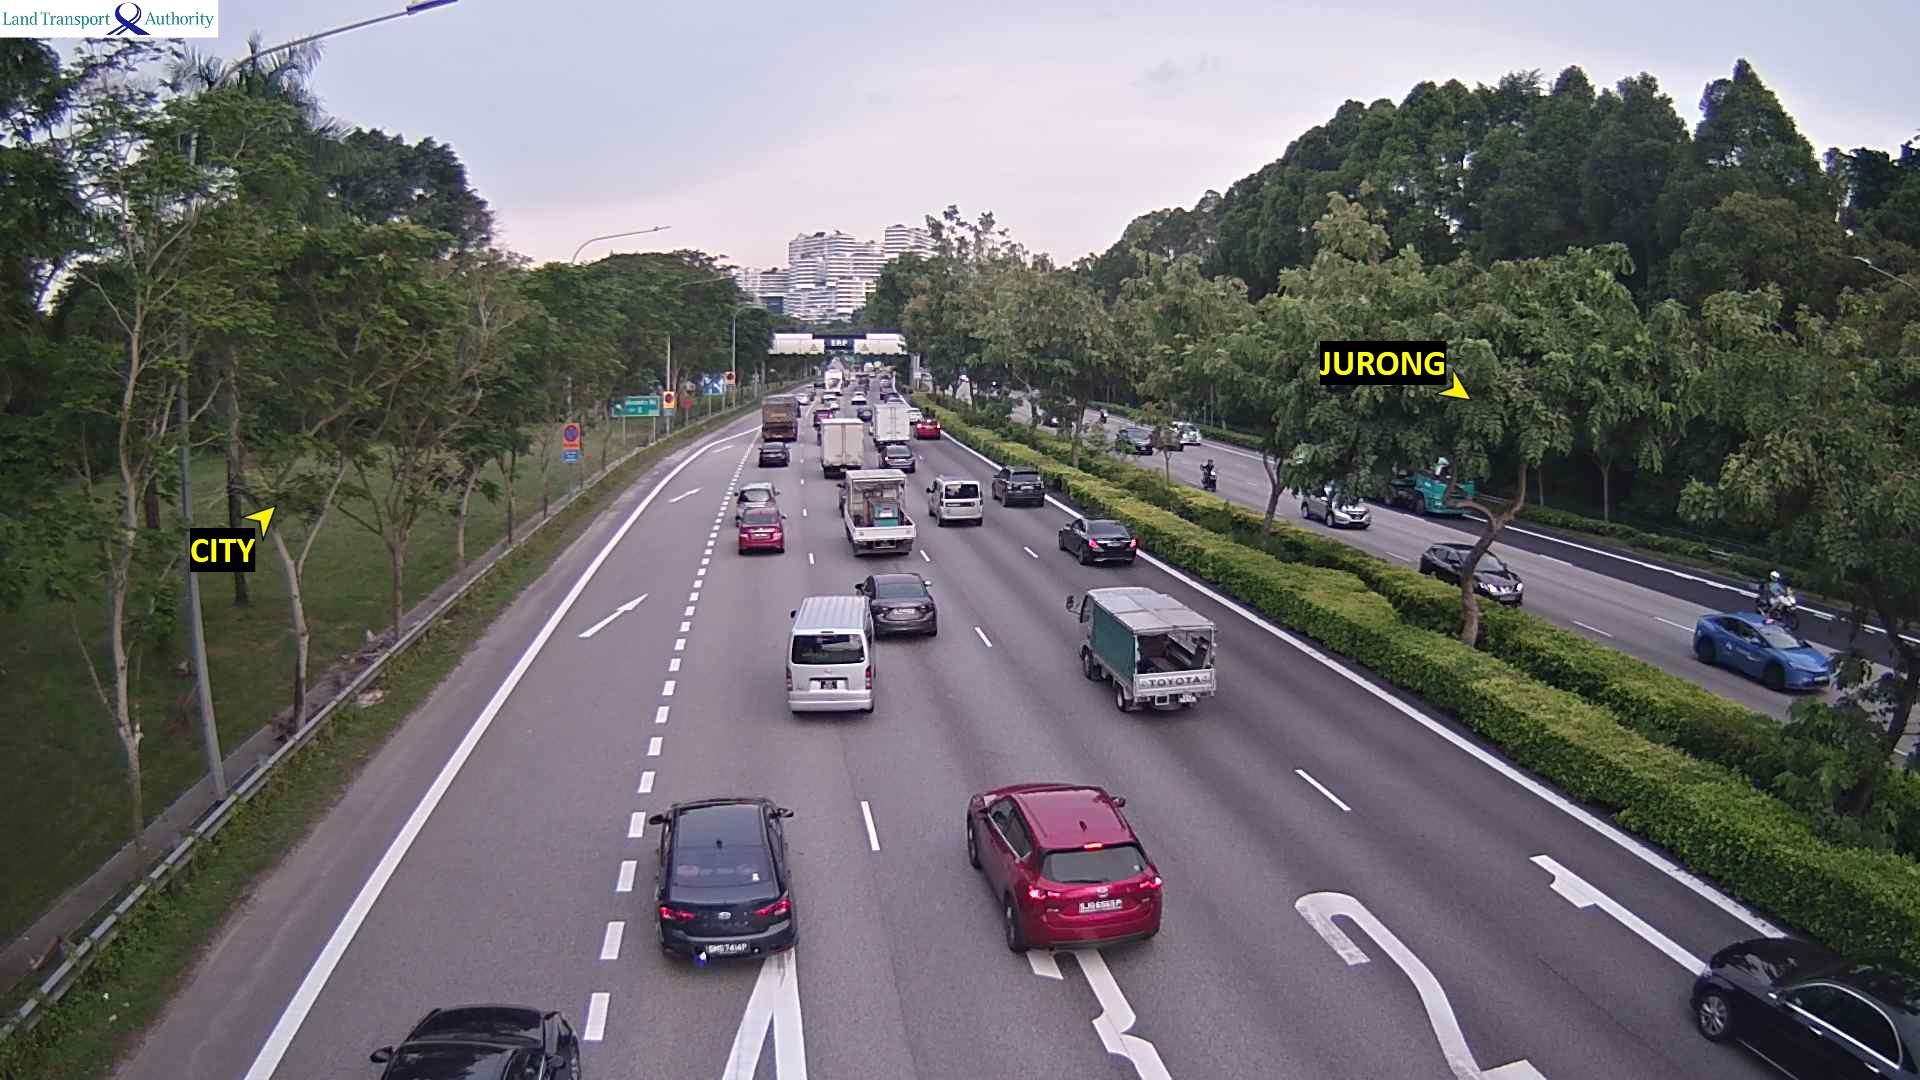incoming: (1762, 627, 1831, 695), (1479, 556, 1526, 603), (1778, 592, 1802, 628), (1204, 468, 1219, 491)
